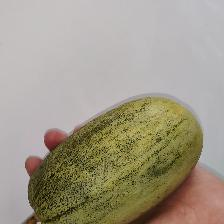gua: (85, 120, 175, 200)
